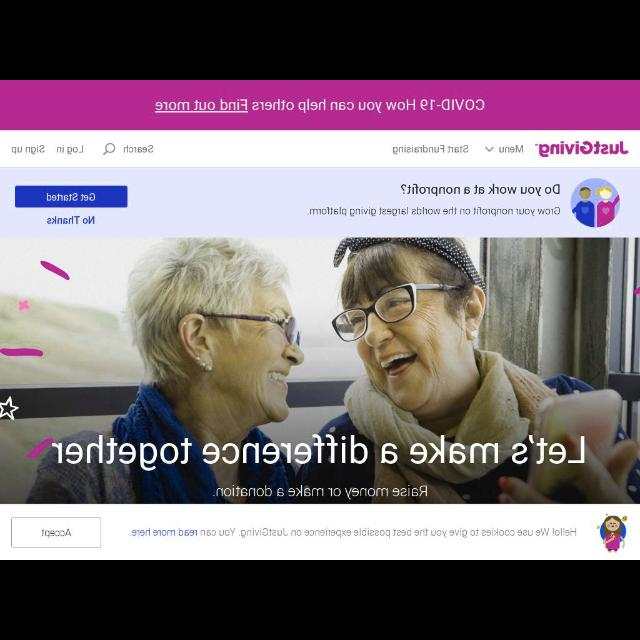icon: (103, 144, 115, 156), (486, 146, 494, 152)
image: (1, 238, 640, 504), (571, 178, 619, 228), (535, 142, 629, 158), (596, 514, 628, 552)
spinner: (484, 144, 524, 154)
text: (52, 434, 584, 472), (153, 98, 484, 114), (129, 528, 577, 538), (212, 485, 428, 499), (307, 206, 559, 216), (401, 184, 559, 196), (392, 146, 470, 154), (46, 193, 96, 201), (47, 216, 95, 224), (10, 145, 44, 155), (40, 528, 72, 538), (56, 145, 84, 155), (123, 145, 153, 153), (498, 145, 524, 153)
textbutton: (11, 517, 100, 547), (16, 186, 128, 208)
toolbar: (1, 130, 640, 166)
